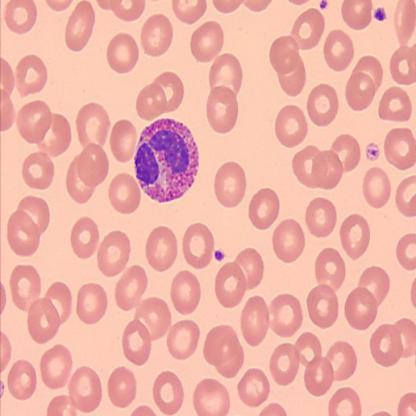Eosinophil: (133, 119, 199, 204)
